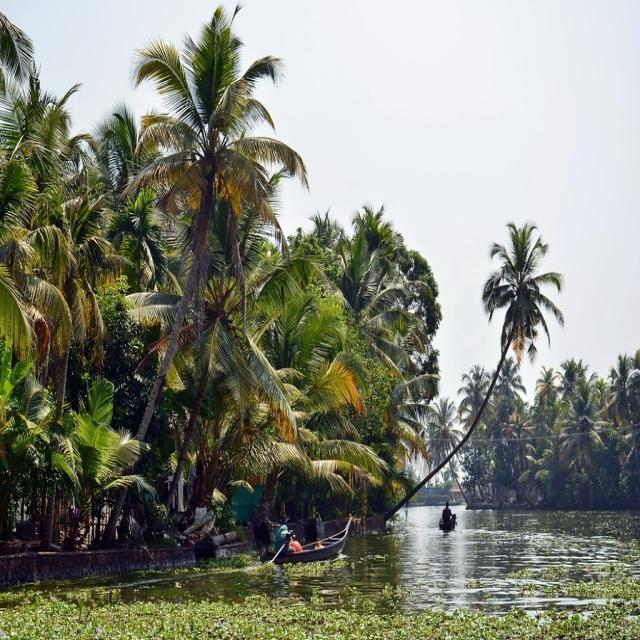Hyacinth: (3, 587, 637, 640), (529, 560, 636, 596), (238, 553, 349, 583)
boat: (274, 512, 366, 570), (434, 504, 461, 536)
